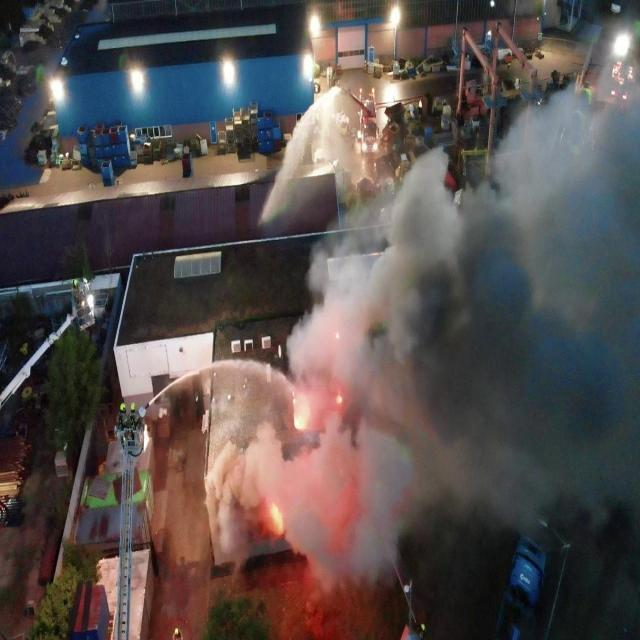Fire: (270, 502, 284, 534), (294, 417, 305, 429), (336, 396, 342, 404), (292, 398, 296, 404), (336, 333, 339, 339), (292, 391, 294, 396)
Smoke: (203, 85, 640, 596)
